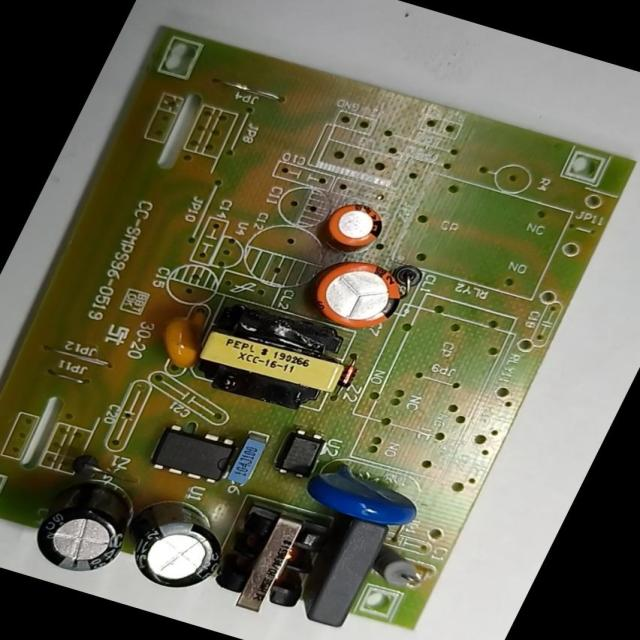Cap1: (296, 245, 417, 342)
Cap2: (313, 194, 393, 260)
Cap3: (107, 490, 245, 603)
Cap4: (22, 470, 147, 583)
MOSFET: (140, 416, 244, 492)
Mov: (296, 451, 438, 538)
Resistor: (365, 542, 435, 595)
Transformer: (178, 293, 367, 424), (198, 500, 338, 630)
